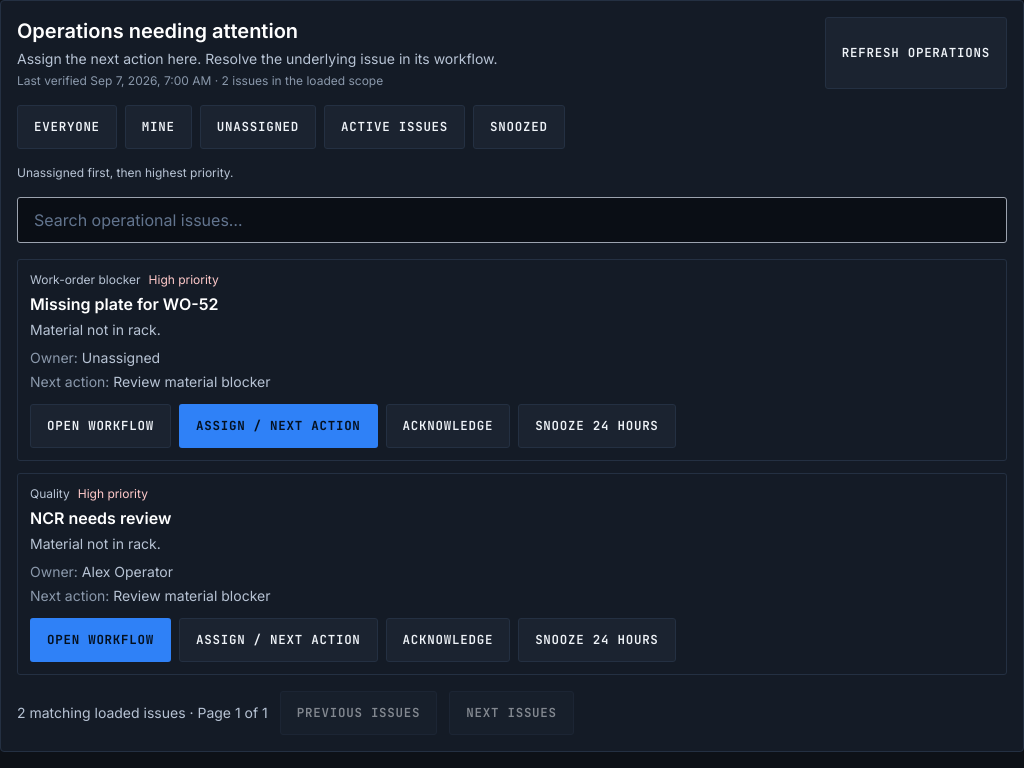
it: uses live issue identities independently of old category dismissals, with Mine and Unassigned filters
Check: the element "Missing plate for WO-52" is shown, box [17,259,1007,461]
Click the button "Mine" at point(158, 127), box [125,105,192,149]
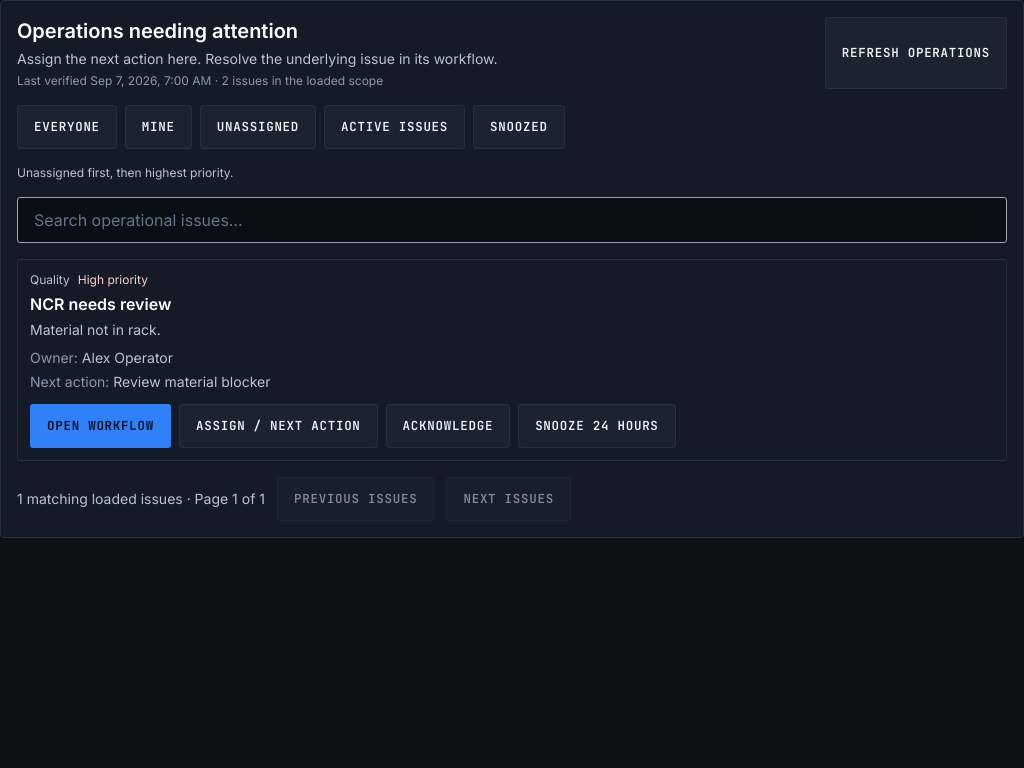
Check: the element "NCR needs review" is shown, box [17,259,1007,461]
Check: the heading "Missing plate for WO-52" is gone
Click the button "Unassigned" at point(258, 127), box [200,105,316,149]
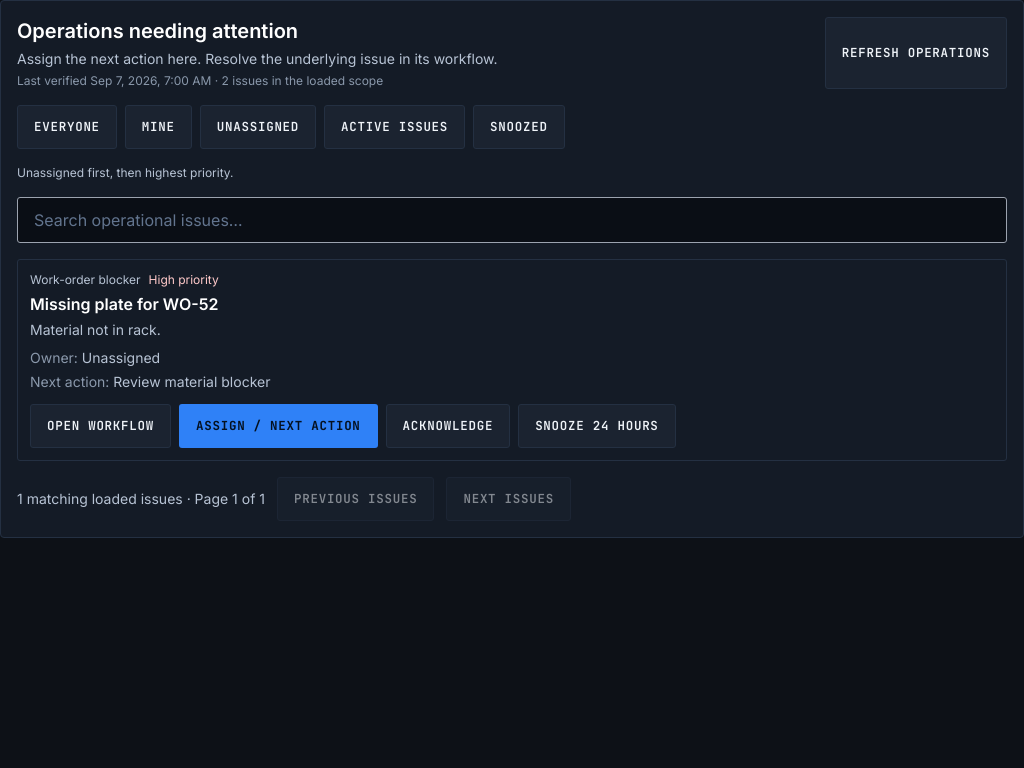
Check: the element "Missing plate for WO-52" is shown, box [17,259,1007,461]
